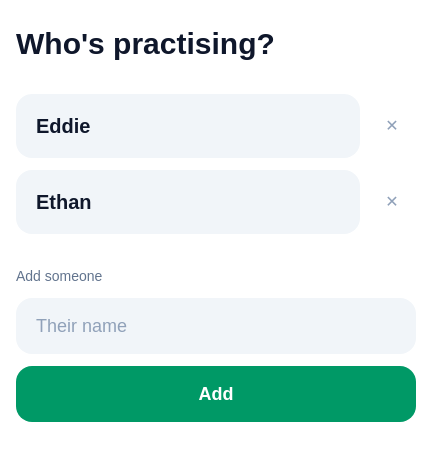
Test: a duplicate name is refused with a reason
Type "Eddie" into the field. click: (216, 326)
box: top-left (16, 298), bottom-right (416, 354)
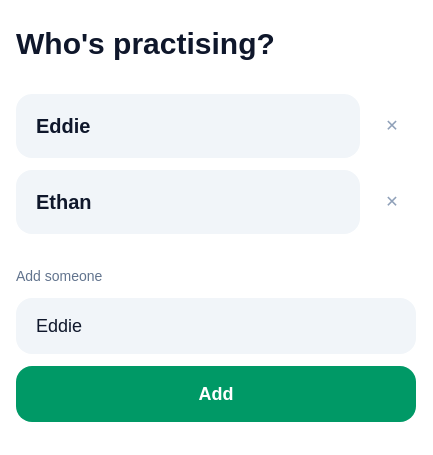
Click the button "Add". click: (216, 394)
box: top-left (16, 366), bottom-right (416, 422)
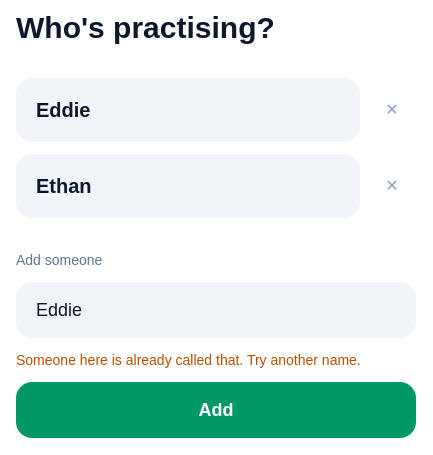
Expected: the text "already" is shown, top-left (16, 352), bottom-right (361, 368)
